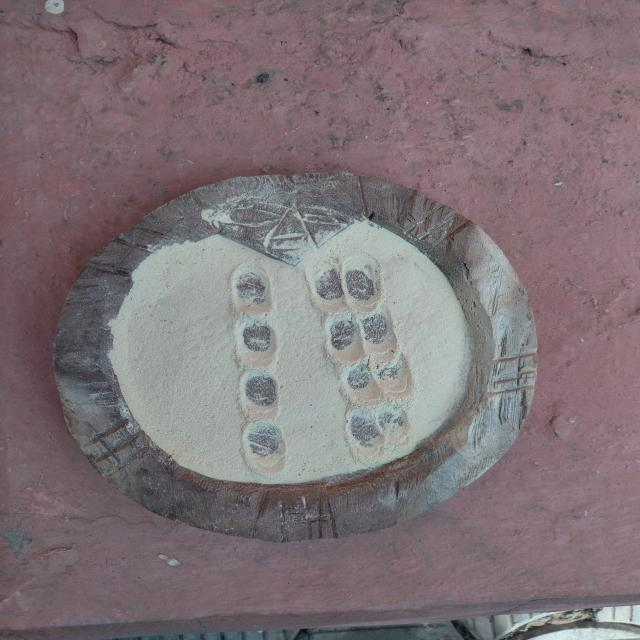double: (304, 260, 384, 315), (322, 311, 402, 361), (336, 358, 416, 405), (345, 406, 415, 458)
single: (228, 319, 284, 372), (224, 266, 278, 318), (238, 424, 292, 474), (234, 374, 287, 424)
